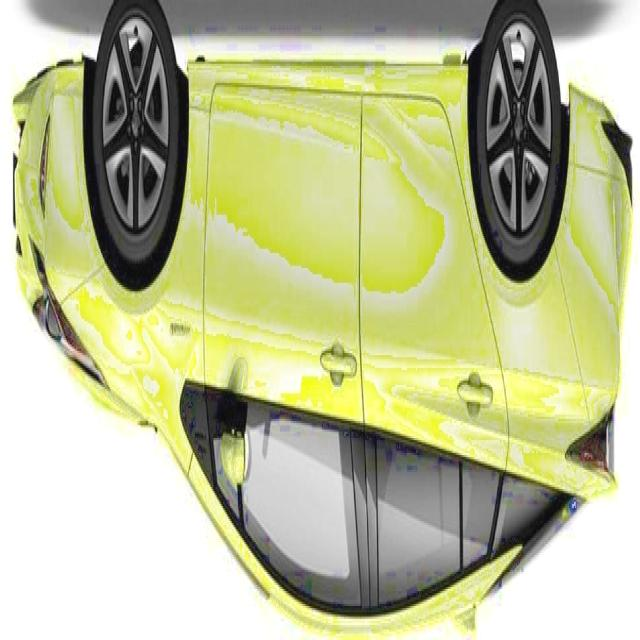green: (15, 0, 632, 638)
